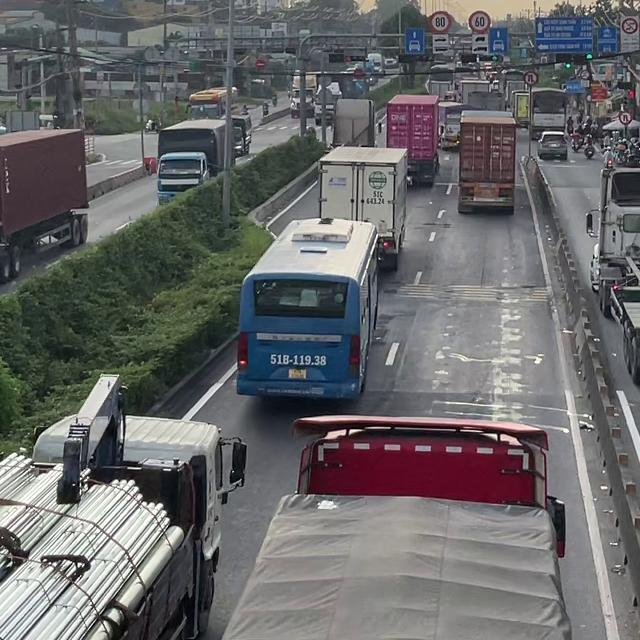bus: (235, 216, 380, 400), (185, 86, 237, 118)
car: (536, 130, 567, 159)
motorcycle: (583, 135, 595, 158)
truck: (221, 413, 572, 639), (0, 373, 246, 639), (0, 127, 89, 282), (585, 164, 640, 386), (317, 145, 408, 271), (156, 118, 232, 208), (457, 110, 516, 214), (385, 93, 440, 186), (331, 98, 376, 148), (528, 87, 570, 140), (229, 112, 252, 155), (457, 78, 490, 103), (467, 90, 504, 110), (515, 92, 530, 127)
